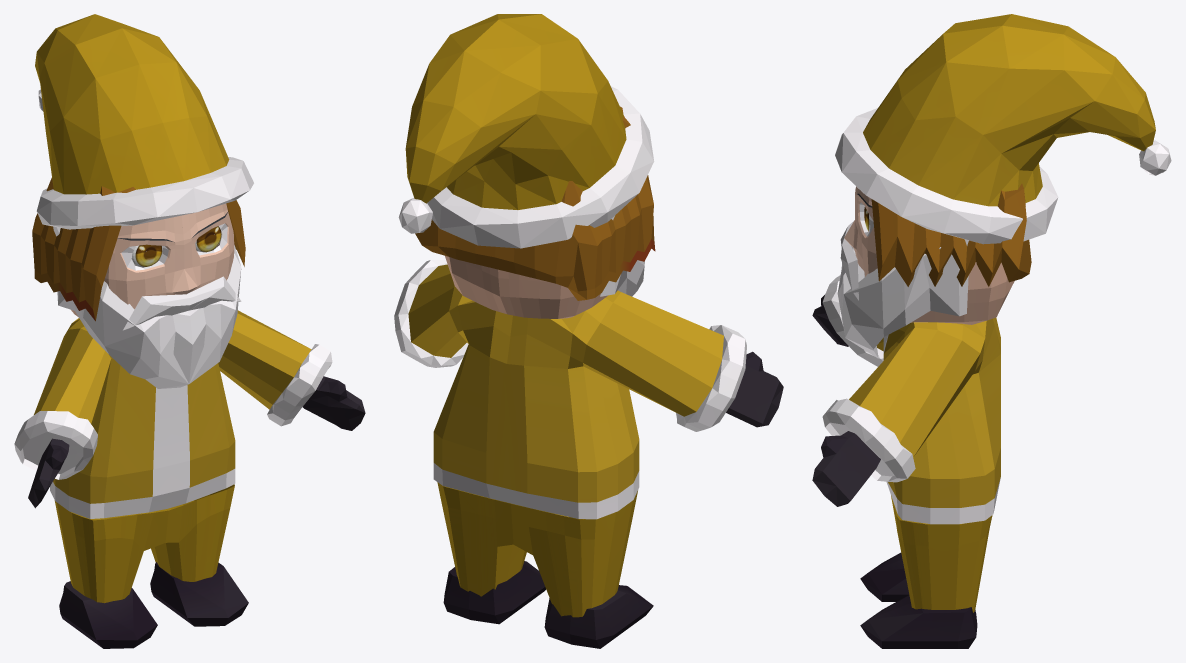
File: santa_k.glb
3 views of the same model, side by side, from view 1: azimuth 30°, elevation 25°; view 2: azimuth 150°, elevation 25°; view 3: azimuth 270°, elevation 25° (orthographic). The views are drawn at different scales.
Visible parts, largest first — view 1: hontai-k, boushi-k, zubon-k, hige-k, kao-k, kami-k, kutu-r-k, kutu-l-k, hanahige-k, me-r-k; view 2: hontai-k, boushi-k, zubon-k, kami-k, kao-k, kutu-r-k, kutu-l-k, hige-k; view 3: boushi-k, hontai-k, kami-k, hige-k, zubon-k, kutu-l-k, kao-k, kutu-r-k, hanahige-k.
Boxes of the visible parts, x1=… form: hontai-k: x1=14, y1=310, x2=365, y2=518; boushi-k: x1=35, y1=14, x2=253, y2=229; zubon-k: x1=54, y1=484, x2=234, y2=603; hige-k: x1=53, y1=226, x2=241, y2=388; kao-k: x1=71, y1=203, x2=234, y2=317; kami-k: x1=32, y1=178, x2=245, y2=321; kutu-r-k: x1=59, y1=581, x2=157, y2=648; kutu-l-k: x1=150, y1=562, x2=248, y2=626; hanahige-k: x1=123, y1=276, x2=241, y2=330; me-r-k: x1=131, y1=244, x2=162, y2=267; hontai-k: x1=394, y1=259, x2=783, y2=519; boushi-k: x1=398, y1=14, x2=654, y2=248; zubon-k: x1=437, y1=482, x2=637, y2=617; kami-k: x1=415, y1=106, x2=655, y2=300; kao-k: x1=445, y1=256, x2=607, y2=318; kutu-r-k: x1=544, y1=585, x2=653, y2=648; kutu-l-k: x1=443, y1=561, x2=545, y2=624; hige-k: x1=600, y1=216, x2=644, y2=296; boushi-k: x1=835, y1=14, x2=1171, y2=244; hontai-k: x1=812, y1=275, x2=1000, y2=524; kami-k: x1=871, y1=183, x2=1031, y2=286; hige-k: x1=837, y1=239, x2=968, y2=358; zubon-k: x1=891, y1=495, x2=992, y2=612; kutu-l-k: x1=860, y1=595, x2=977, y2=648; kao-k: x1=844, y1=186, x2=1014, y2=324; kutu-r-k: x1=860, y1=552, x2=909, y2=601; hanahige-k: x1=840, y1=221, x2=858, y2=300.
Bounding box in the file's own units: 5.42 × 8.99 × 4.95.
11 materials, 11 textured.
